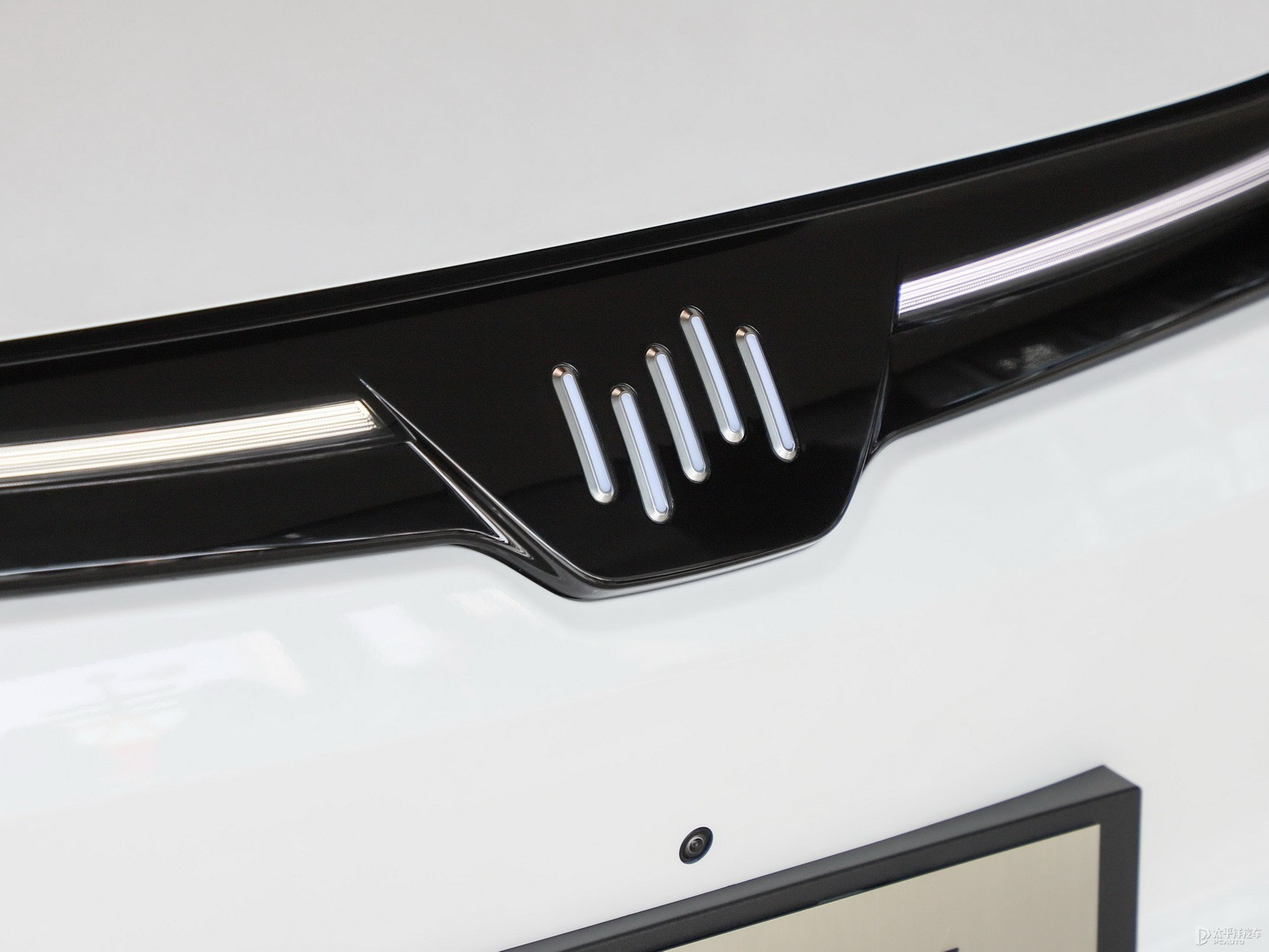WELTMEISTER: (553, 308, 796, 520)
